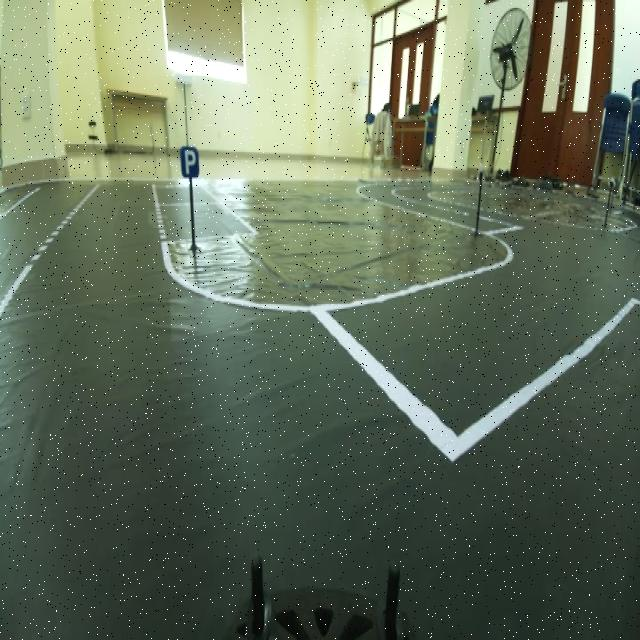parking: (177, 136, 203, 178)
